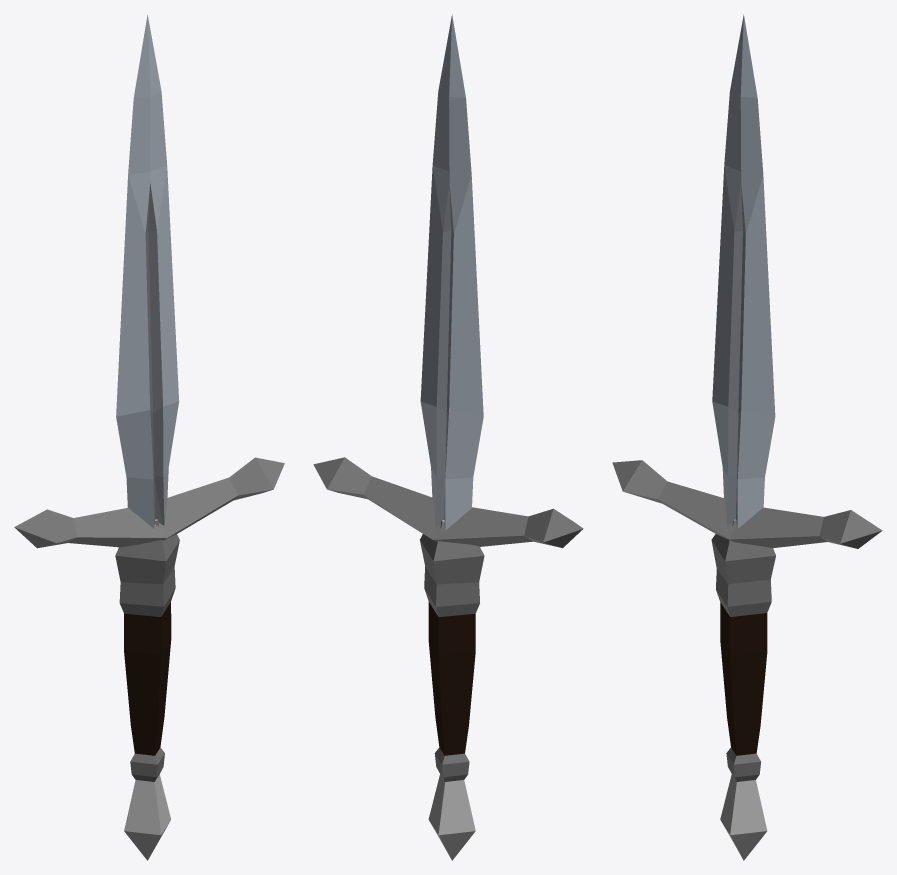
File: Dagger_F_AD_009.fbx
The picture shows the model from 3 angles, left to right: view 1: azimuth 30°, elevation 25°; view 2: azimuth 150°, elevation 25°; view 3: azimuth 330°, elevation 25°; orthographic projection.
Visible parts, largest first — view 1: Dagger_F_AD_009; view 2: Dagger_F_AD_009; view 3: Dagger_F_AD_009.
Part boxes in pixels (x1,y1,x2,y2): Dagger_F_AD_009: (14, 15, 284, 860); Dagger_F_AD_009: (313, 14, 583, 860); Dagger_F_AD_009: (612, 14, 882, 860).
Bounding box in the file's own units: 0.2991 × 0.8945 × 0.0715.
